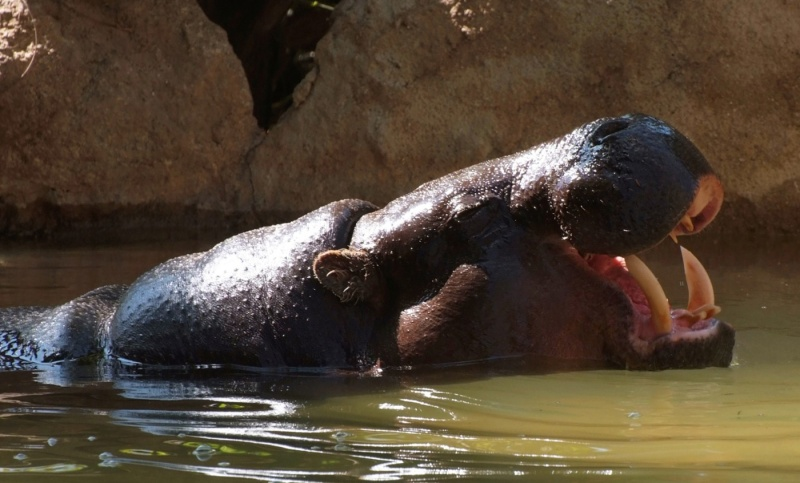hipopotamo: (0, 108, 738, 387)
